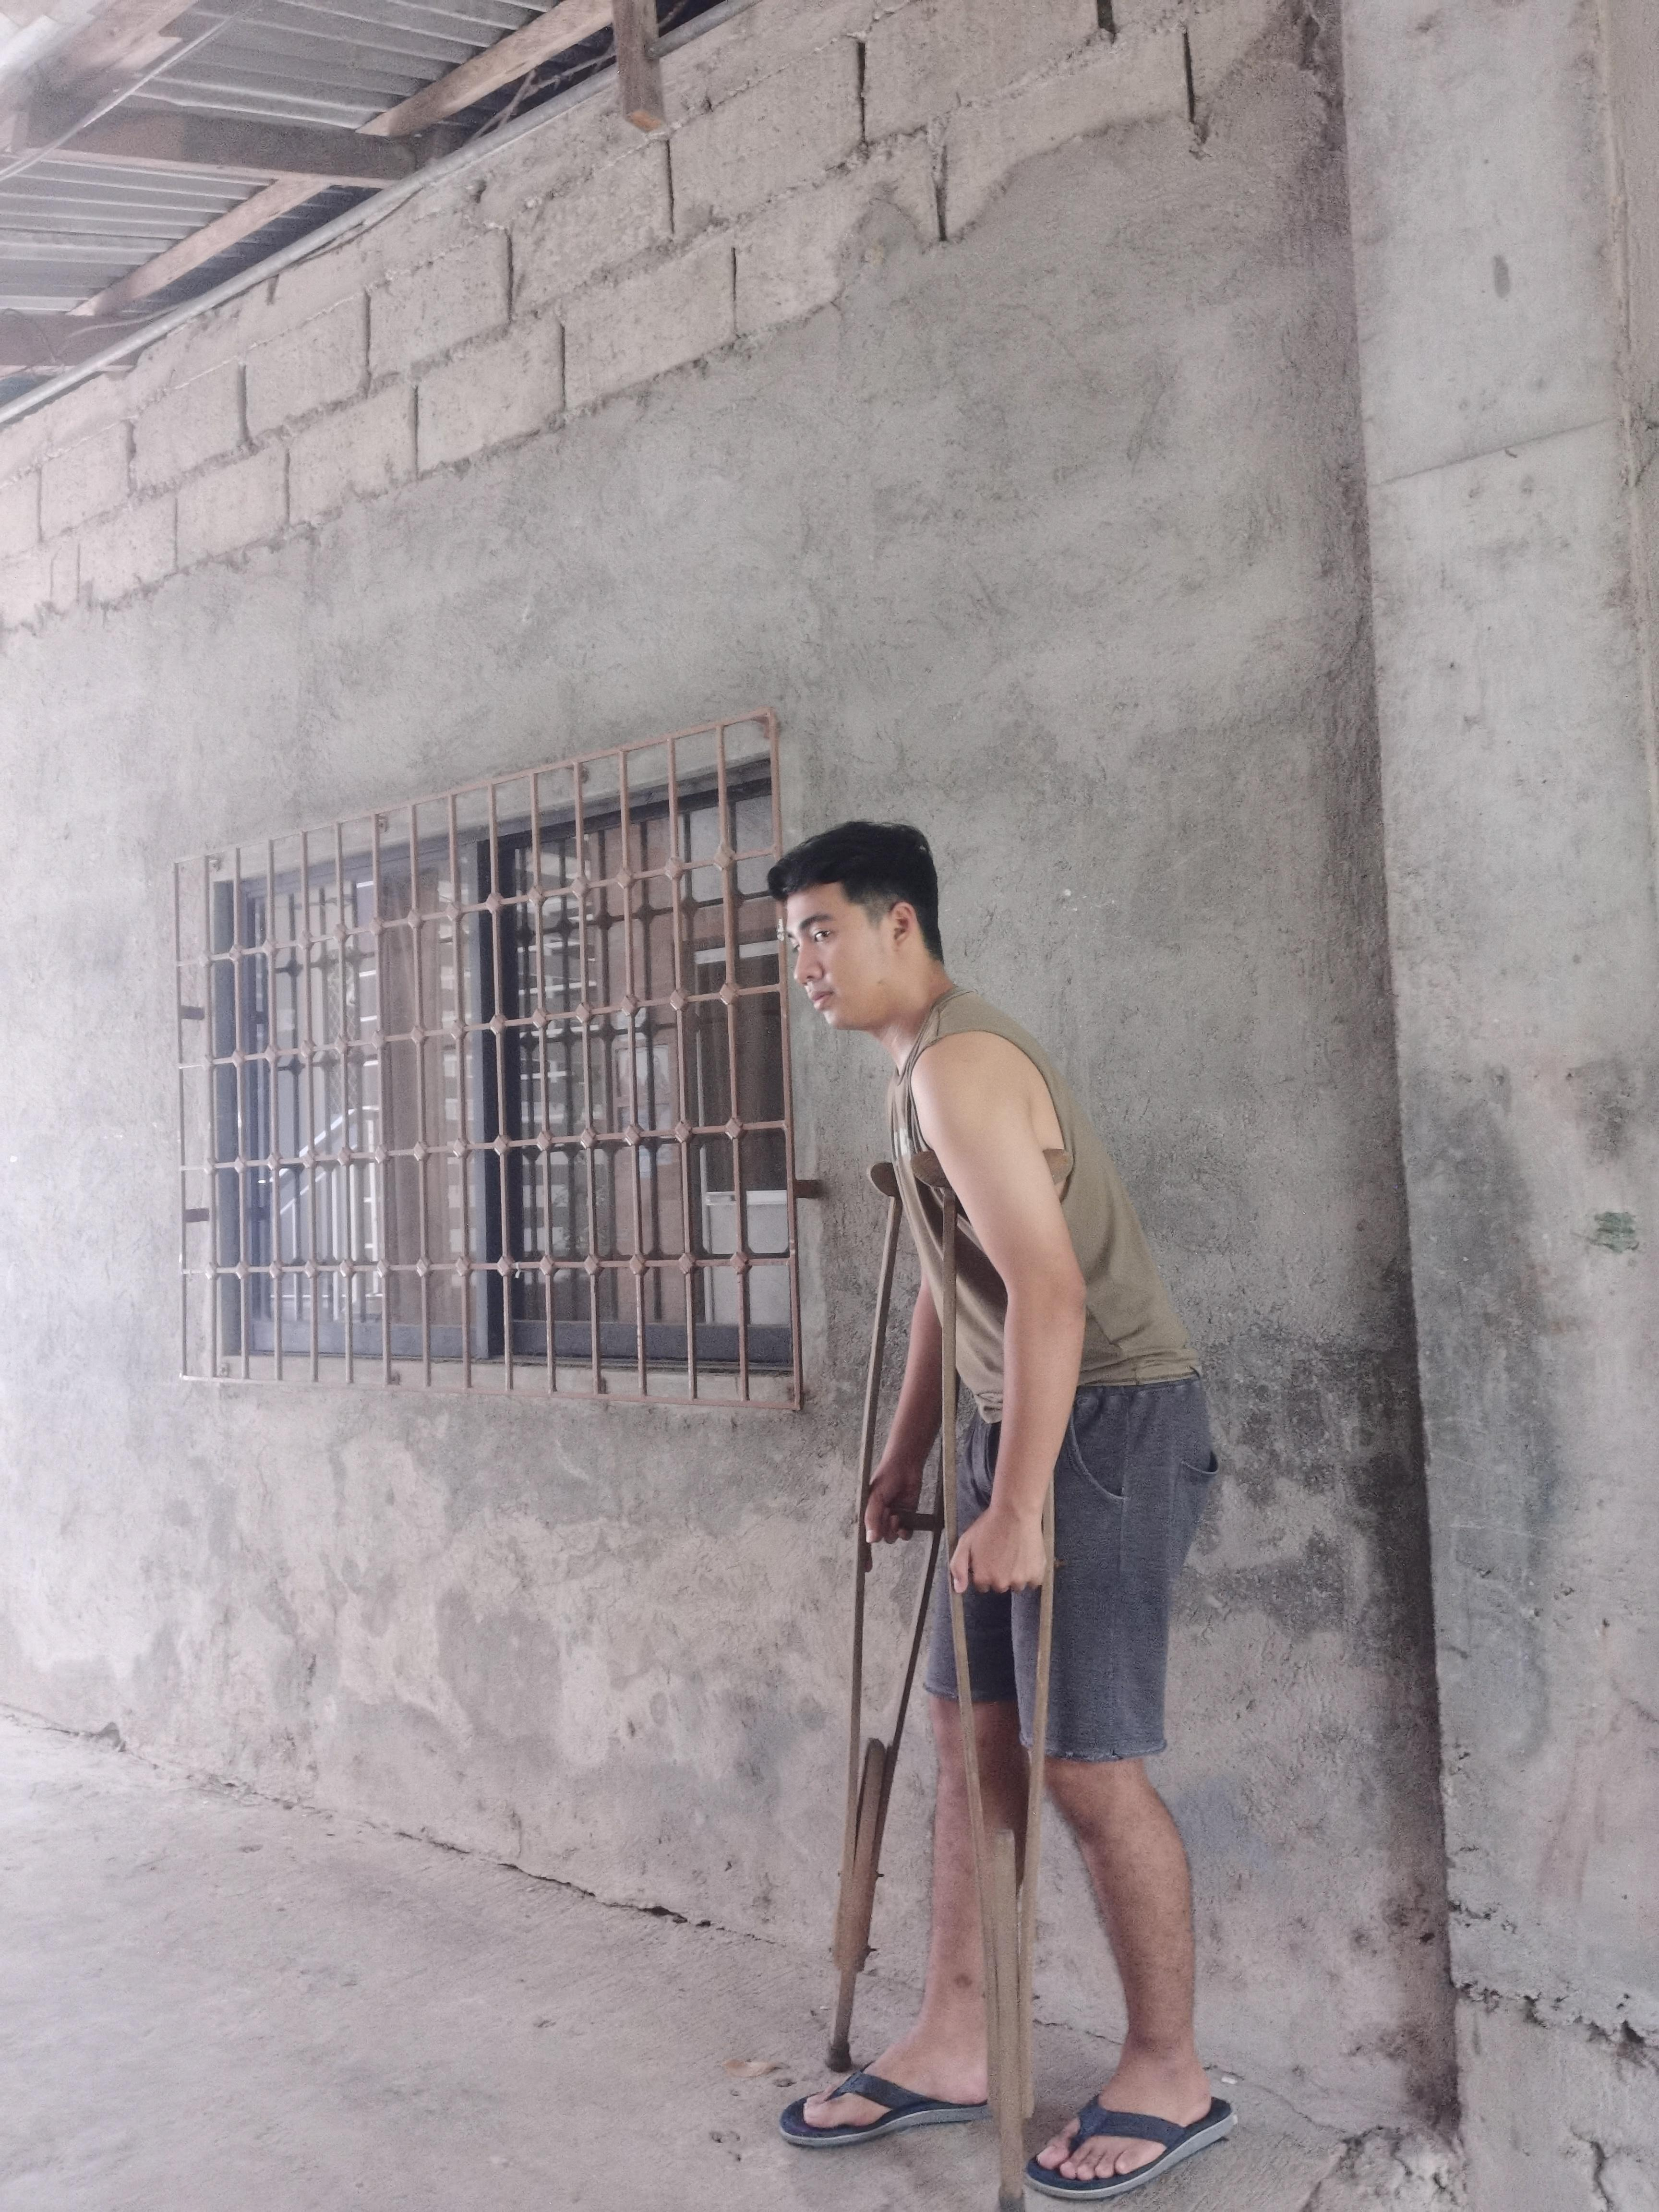crutches: (760, 803, 1251, 2212)
